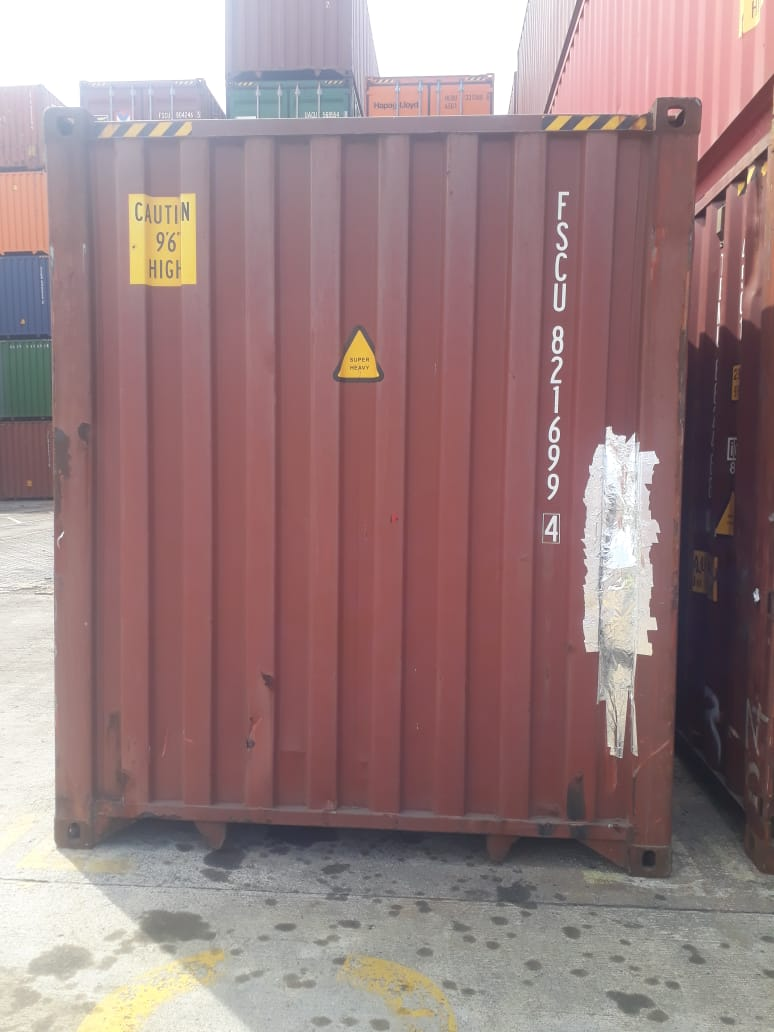front_side: (48, 109, 687, 878)
